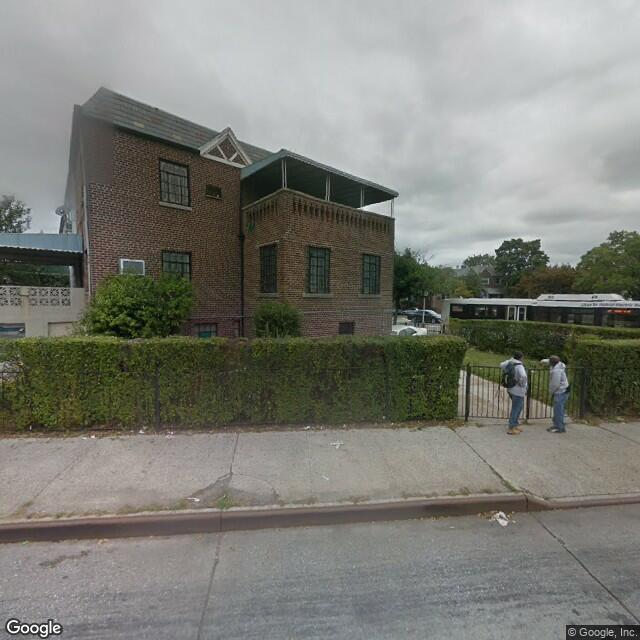litter: (487, 508, 513, 528), (186, 494, 201, 504), (163, 428, 174, 440), (330, 440, 344, 449), (320, 473, 332, 483), (138, 427, 148, 437), (90, 431, 98, 443), (380, 413, 388, 423), (81, 433, 89, 442), (302, 424, 311, 431), (341, 421, 347, 429)
